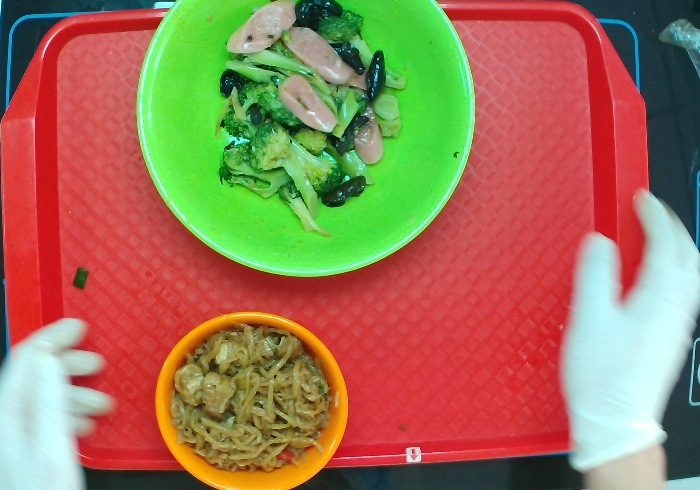YKMZ-Ju_Se_Yuan_Wan: (153, 308, 354, 490)
YKMZ-Lv_Se_Tang_Wan: (132, 1, 477, 277)
